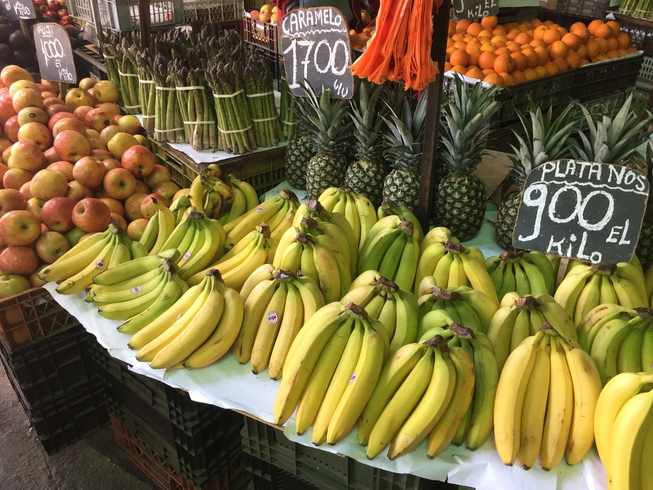precio: (513, 152, 650, 268), (278, 11, 361, 106), (33, 24, 77, 89), (5, 1, 38, 19)
